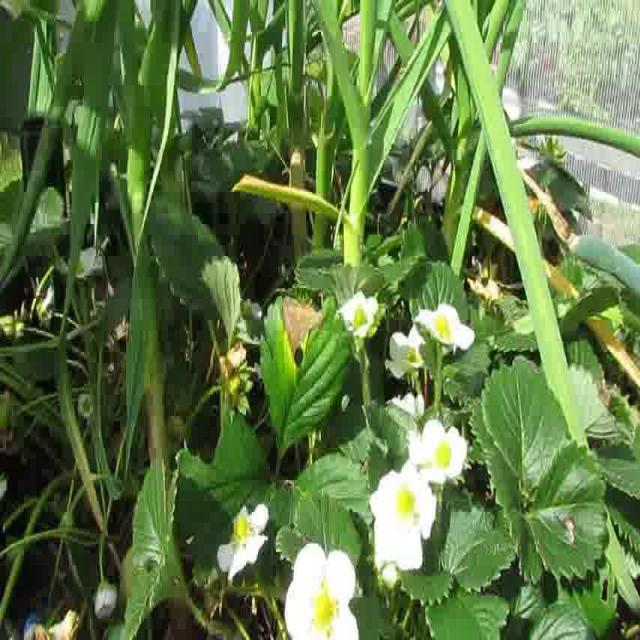Fruta sana: (354, 308, 368, 328), (408, 348, 416, 362)
